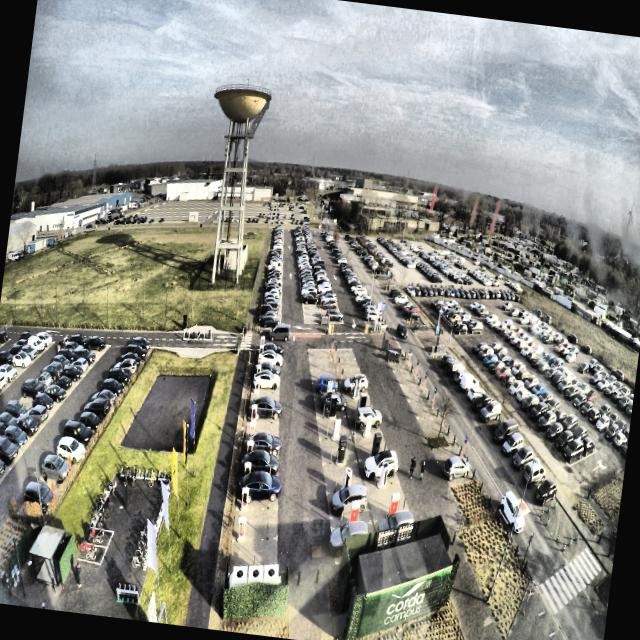cabinet: (232, 564, 278, 581)
car: (240, 470, 282, 504), (242, 448, 280, 477), (245, 432, 282, 456), (250, 394, 282, 421), (252, 370, 281, 390), (257, 349, 282, 365), (255, 361, 281, 376), (259, 342, 283, 356)
parking: (229, 537, 277, 574), (232, 506, 277, 540), (236, 481, 278, 509), (239, 460, 278, 482), (242, 440, 279, 461), (245, 423, 278, 441), (247, 406, 279, 423), (251, 377, 279, 393), (249, 393, 279, 407), (254, 364, 280, 375), (255, 353, 281, 364), (256, 345, 281, 354)
supercharger: (237, 517, 246, 540), (241, 488, 249, 509), (244, 462, 251, 478), (246, 441, 253, 457), (251, 405, 257, 421), (249, 421, 255, 436), (253, 390, 258, 402), (255, 377, 260, 389), (256, 365, 261, 376), (260, 335, 265, 345), (259, 344, 263, 355), (258, 354, 262, 364)
